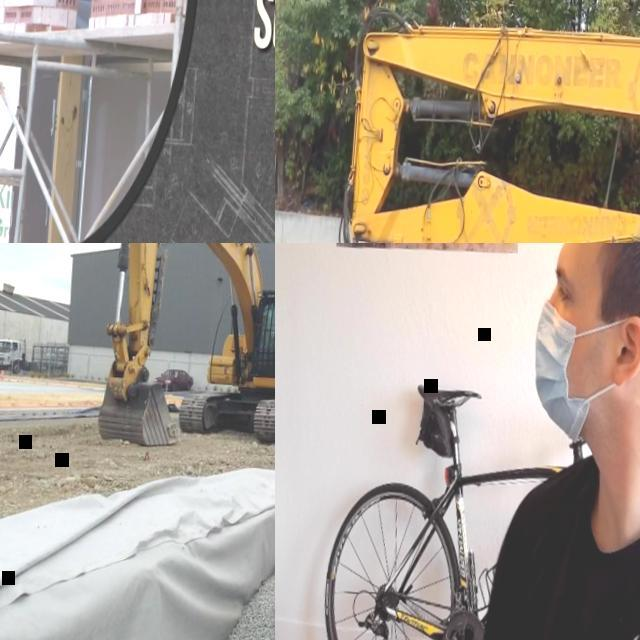machinery: (336, 0, 640, 243), (97, 243, 275, 459), (0, 334, 33, 373)
mask: (526, 297, 626, 452)
no_vest: (505, 457, 640, 640)
person: (442, 243, 640, 640)
vehicle: (152, 366, 194, 392)
